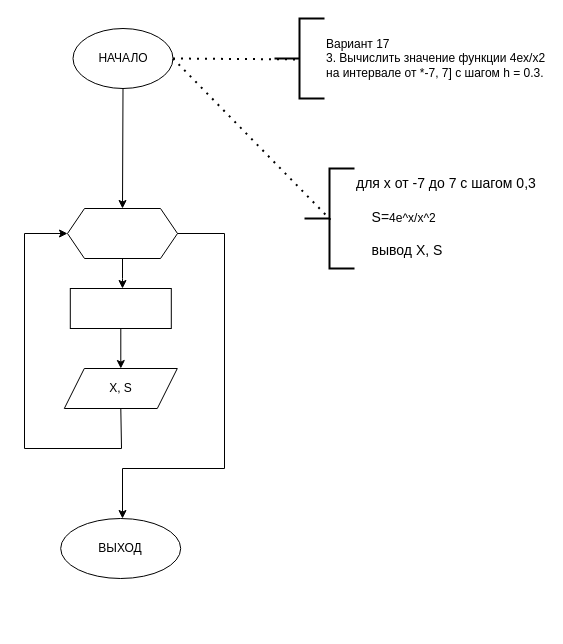
Image size: 563x644. Some labels were removed from this diagram. The centre of each missing label's shape, as x and y in pixels:
S= 4e^x/x^2: point 120,308
x=-7,7; h=0.3: point 122,233
